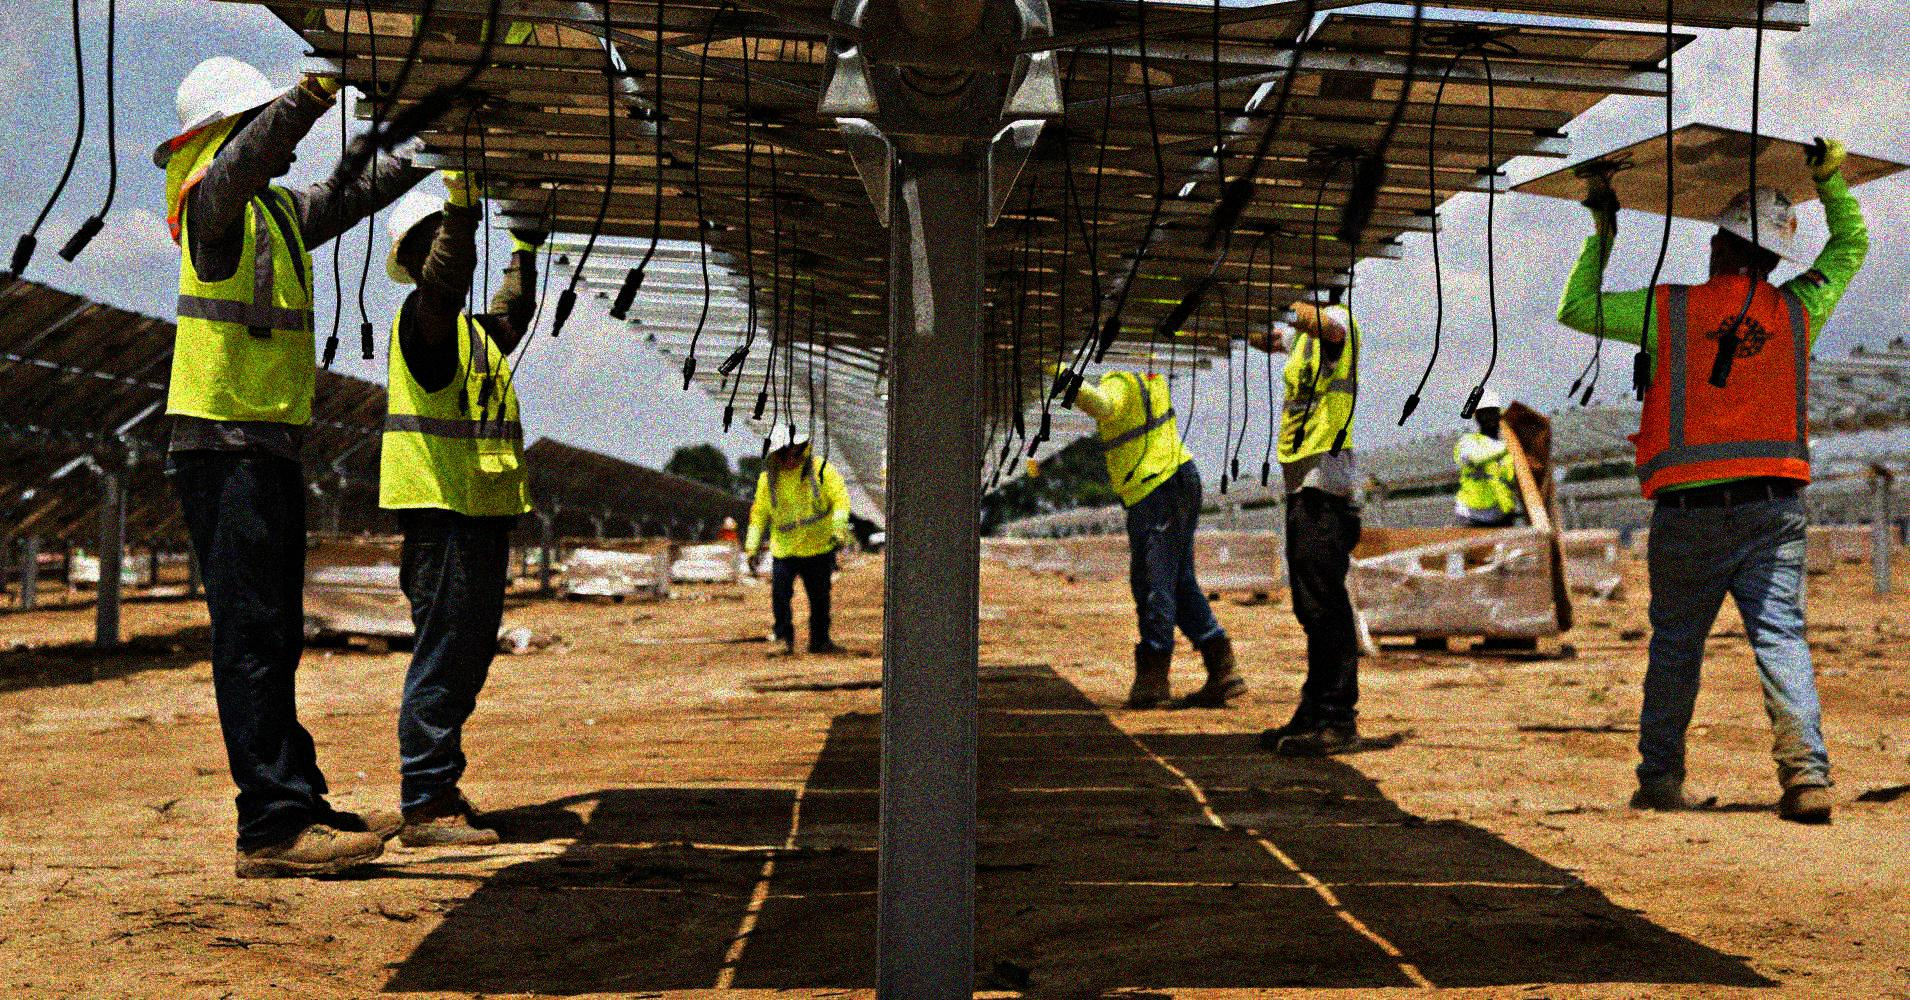helmet: (167, 50, 309, 179), (1694, 184, 1810, 298), (385, 188, 479, 282), (758, 424, 814, 471), (1469, 385, 1506, 436)
